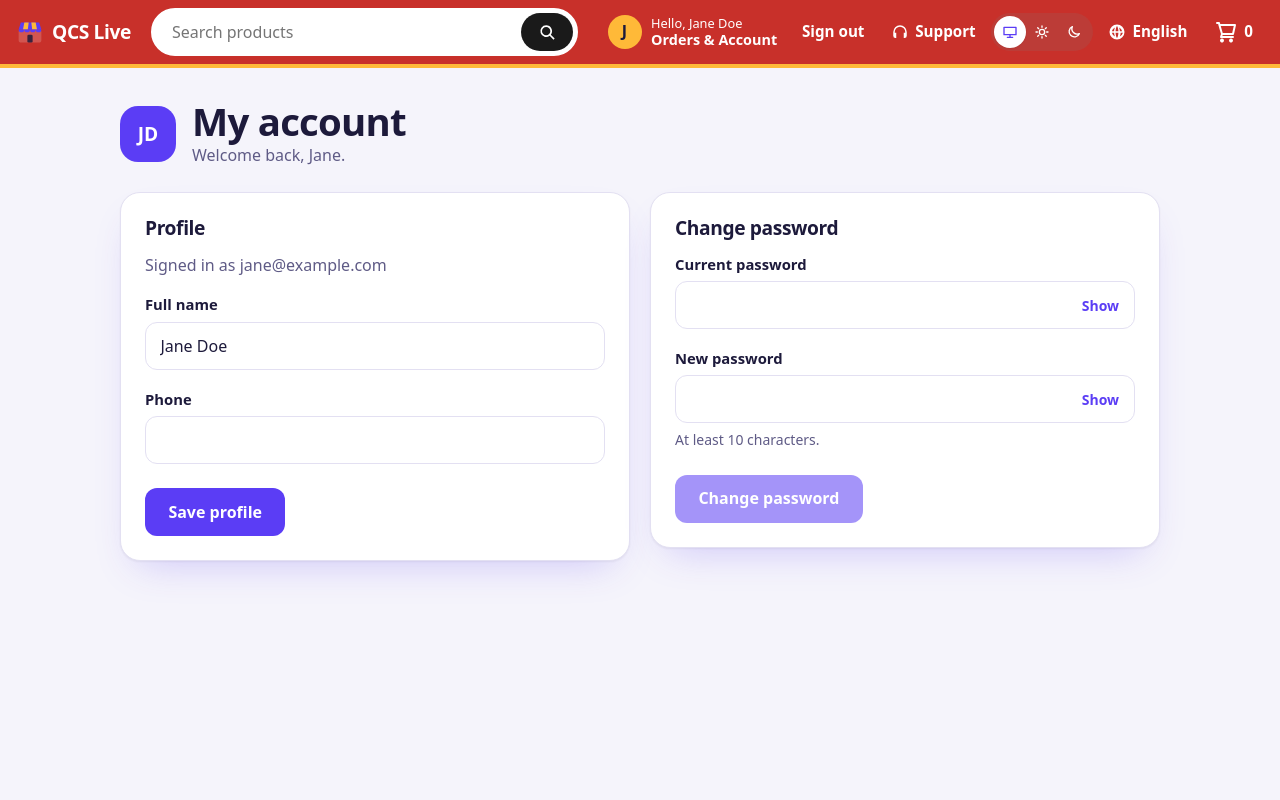
account page › shows phone validation errors from the server
Type "abc" into the field labelled "Phone".
click(375, 440); type("abc")  # box x1=145 y1=416 x2=605 y2=464
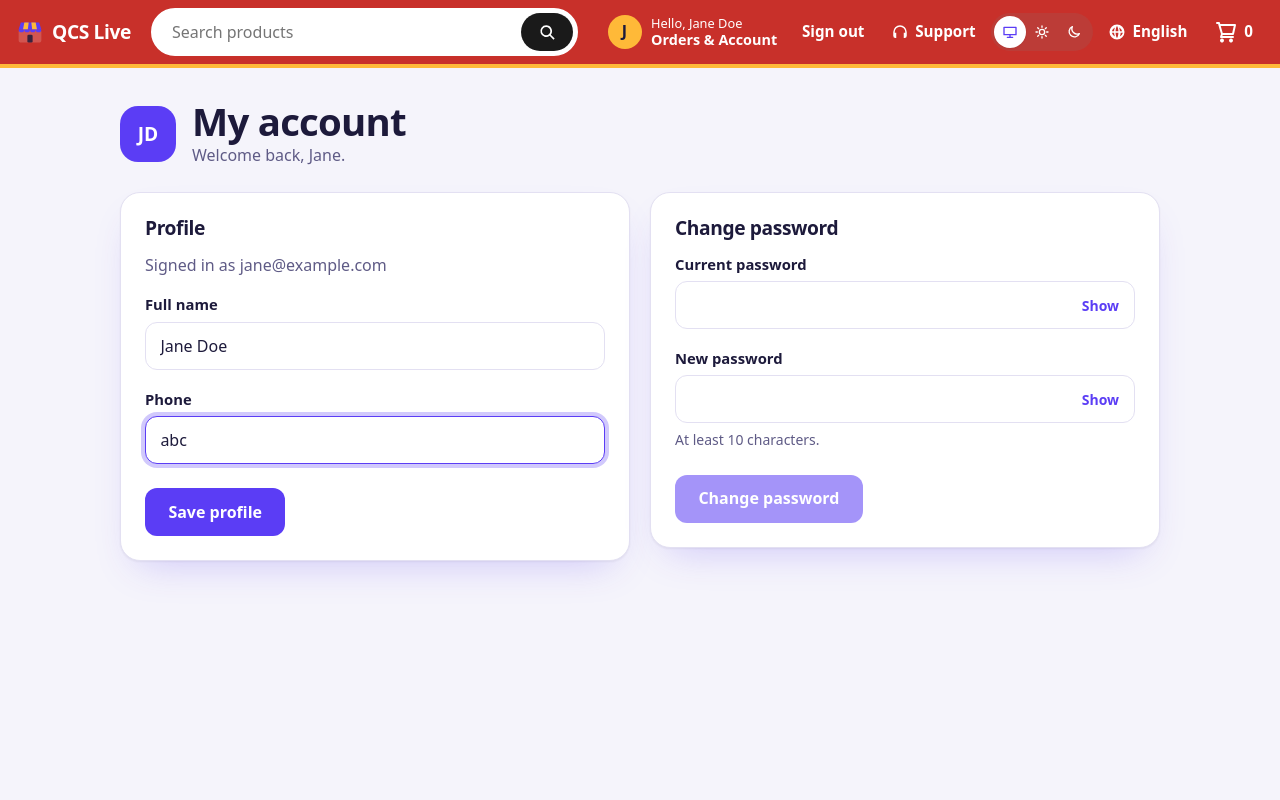
Click the button "Save profile".
click(215, 512)  # box x1=145 y1=488 x2=285 y2=536
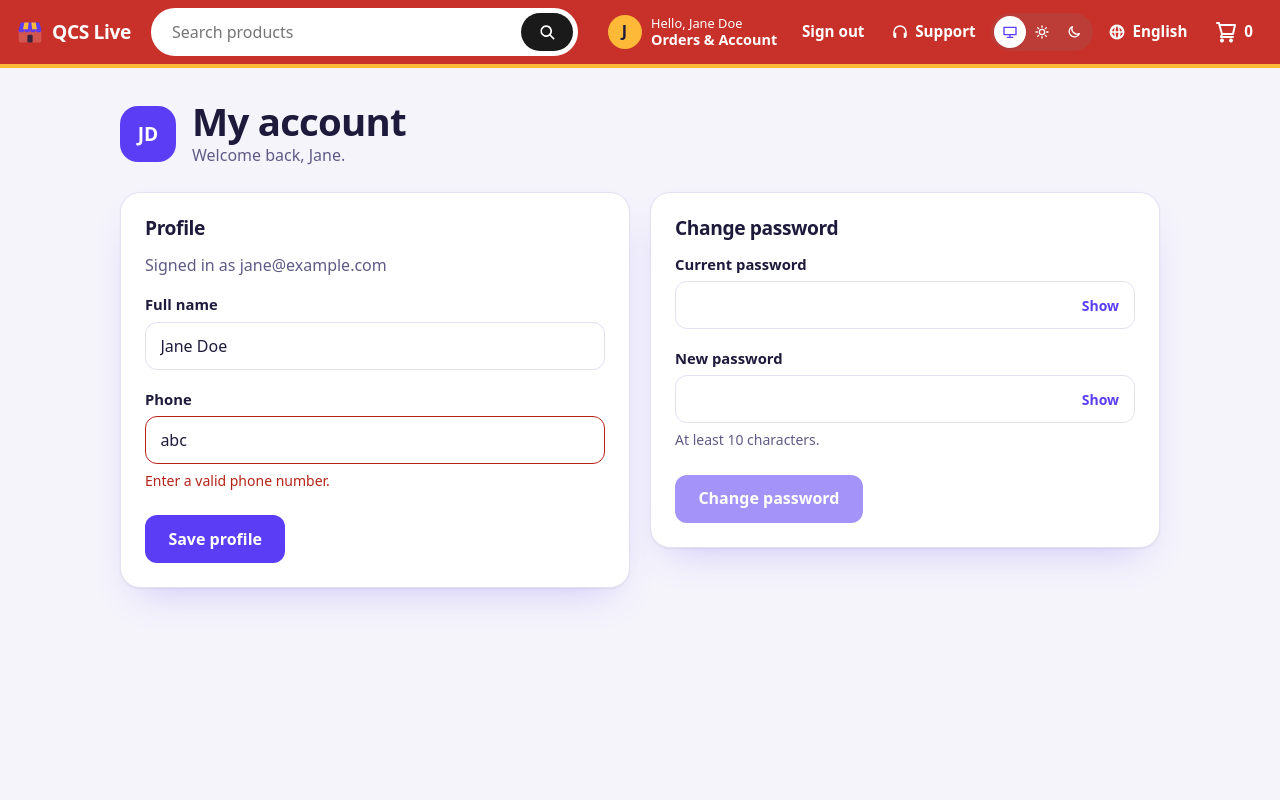
Expected: the text "Enter a valid phone number." is shown, x1=145 y1=471 x2=330 y2=490
